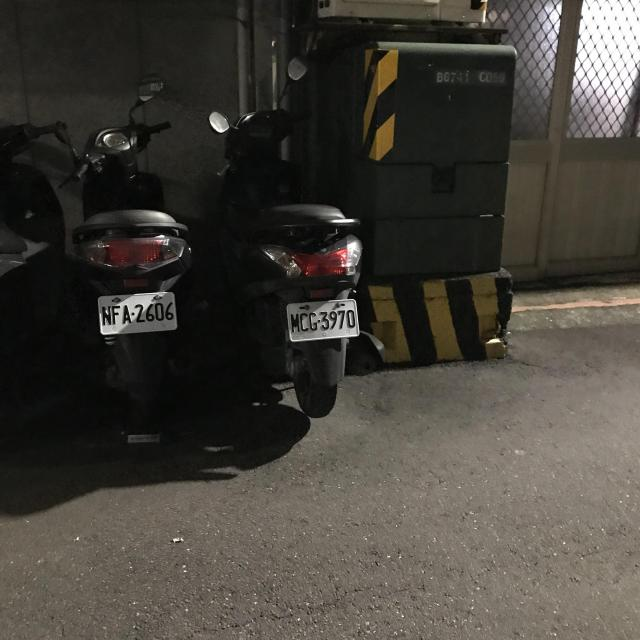W: (92, 288, 187, 338), (280, 296, 362, 343)
